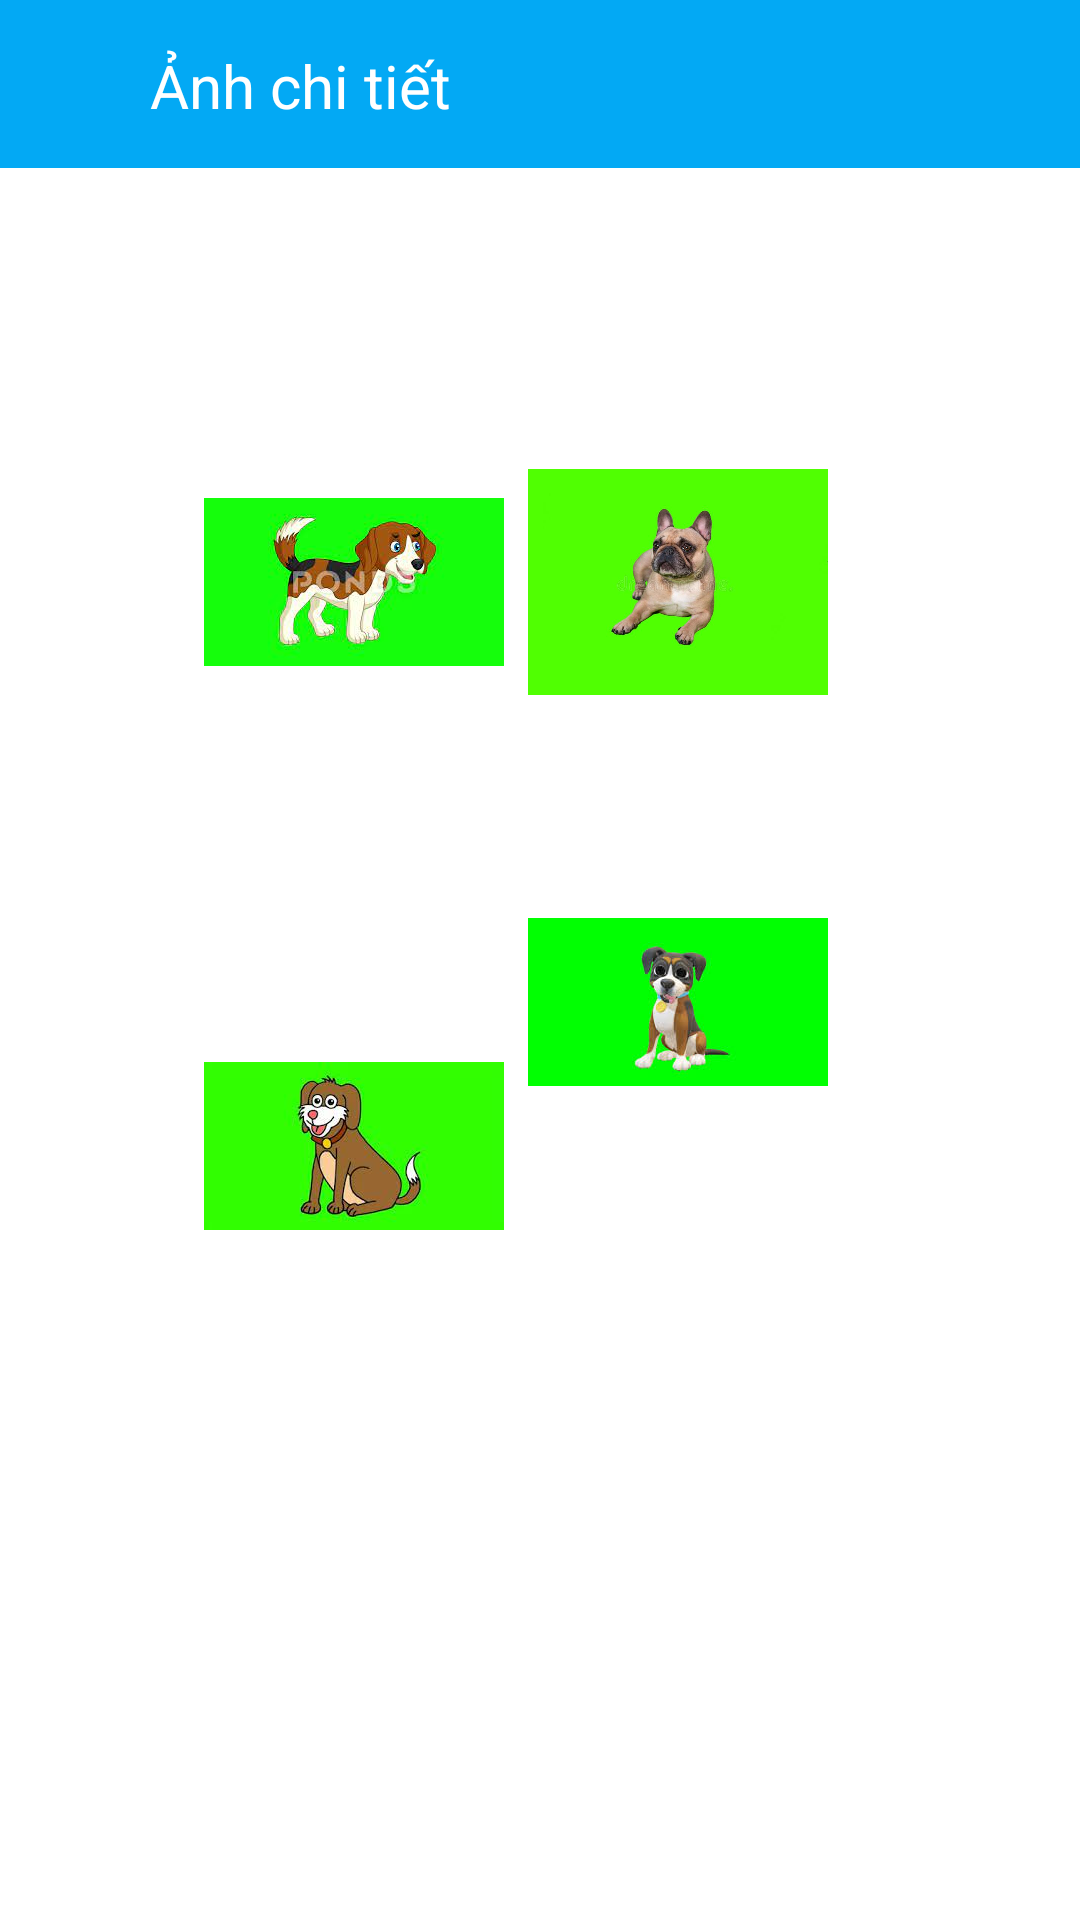

Icons on this 1080w x 1920h Android screen, each with its box as bbox=[x1, y1, x2, y2]:
dog: bbox=[528, 469, 828, 695], bbox=[204, 498, 504, 666], bbox=[528, 918, 828, 1086], bbox=[204, 1062, 504, 1230]
